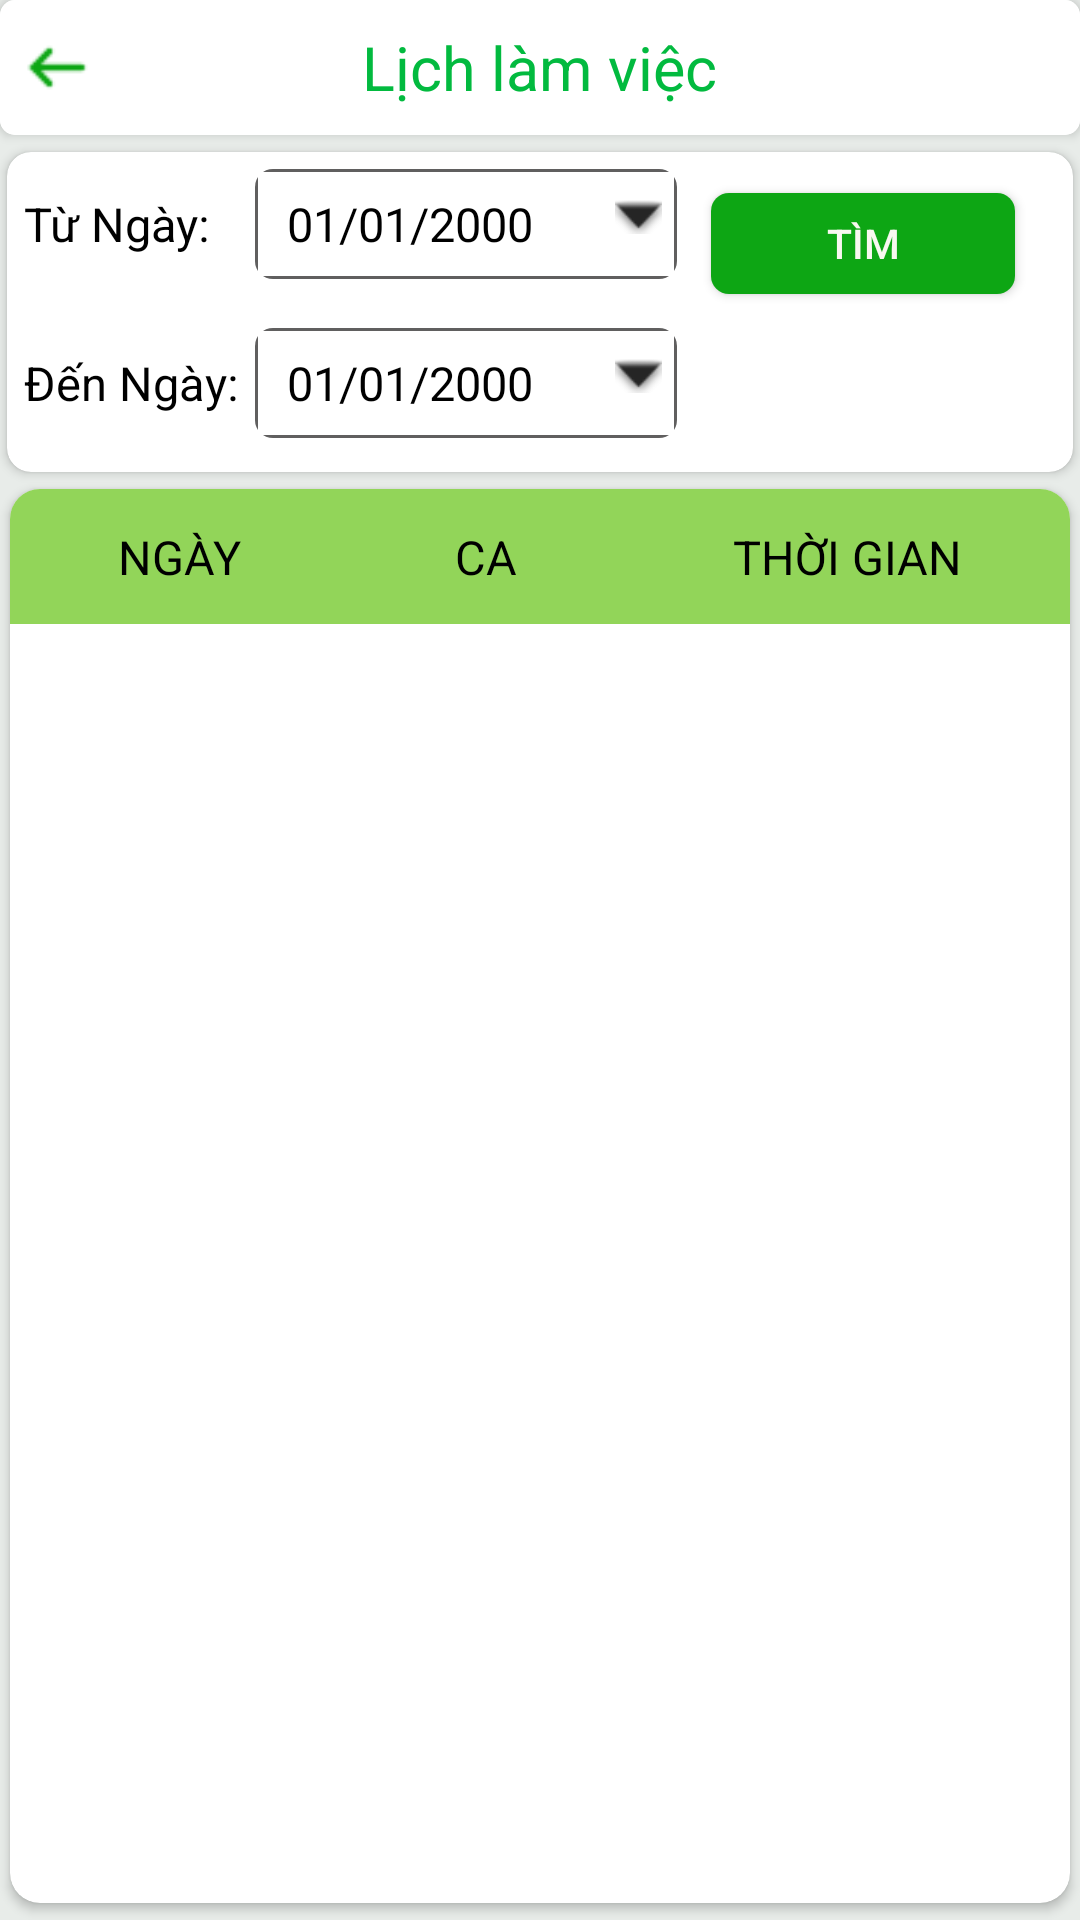

Icon bounding boxes for this 1080 x 1920 phone screenshot, format (x1, y1, x2, y2):
back: (28, 47, 86, 88)
